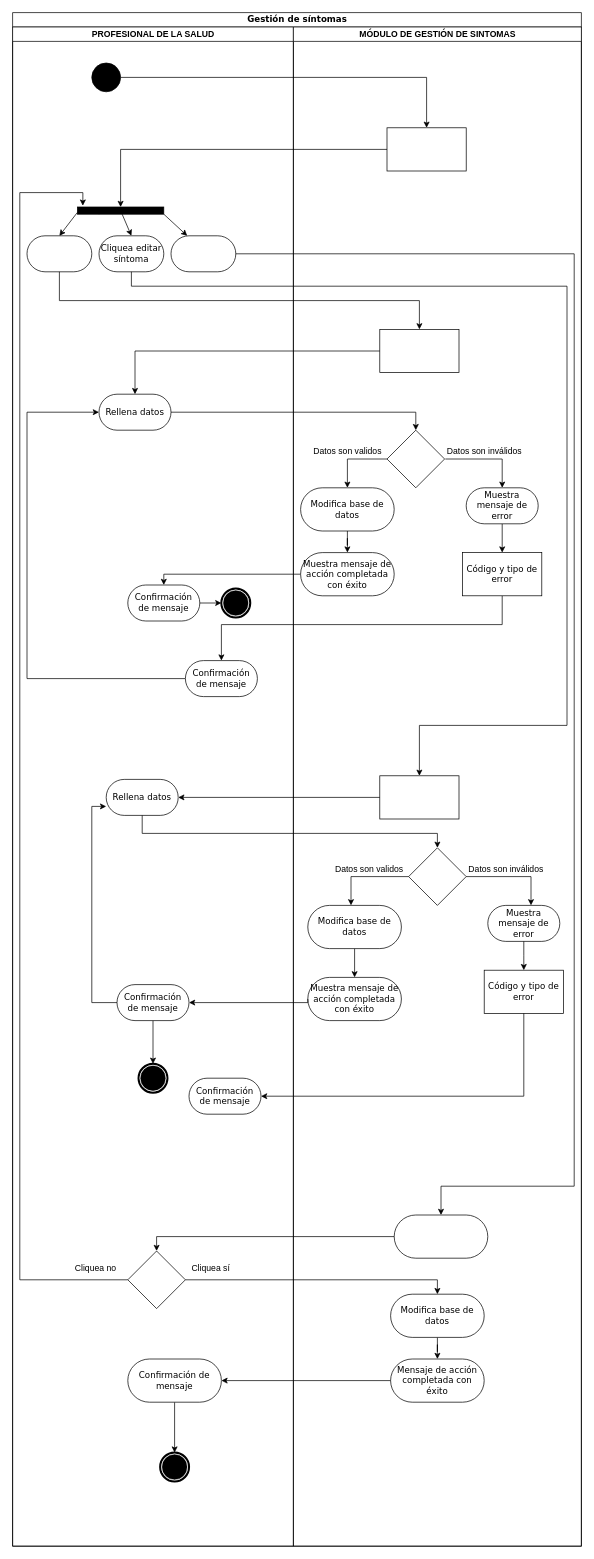
Some shapes in this 594 by 1559 pixel diagram are drawn without their labels. The shapes that lost their labels are listed below. From the top down, each one's centre as x and y in pixels, then its label:
At pixel 426 149: "Menú gestión de síntomas".
At pixel 59 253: "Cliquea agregar síntoma".
At pixel 203 253: "Cliquea eliminar síntoma".
At pixel 419 351: "Formulario de agregar síntoma".
At pixel 419 797: "Formulario de editar enfermedad".
At pixel 440 1236: "Mensaje de confirmación".
